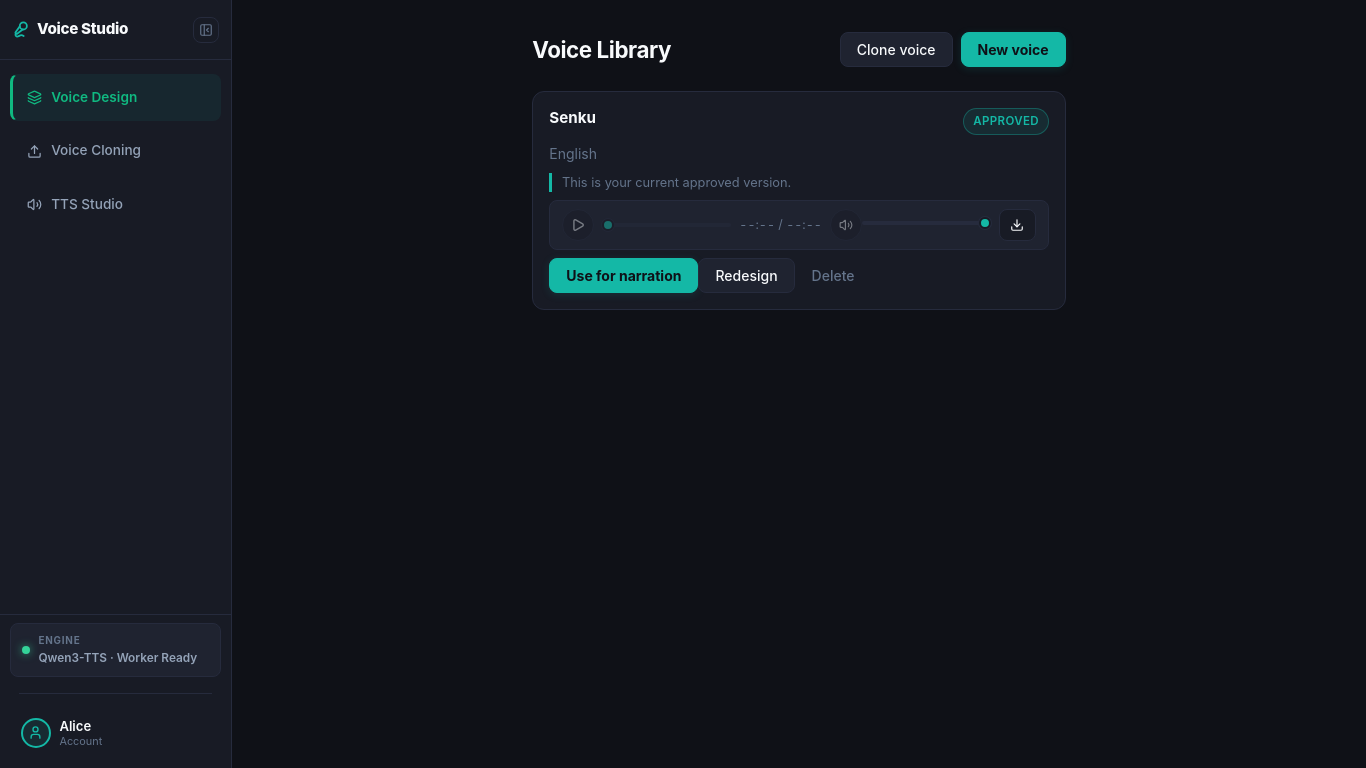
Test case: App — workspace navigation shell (Phase 8a) › collapses the sidebar to icon-only mode and persists the preference
The width and height of the screenshot is (1366, 768).
Expected: the link "Voice Design" is shown, [10, 74, 221, 121]
Expected: the text "Voice Design" is shown, [51, 87, 137, 108]
Click the button named "Collapse sidebar": (206, 30) [193, 16, 219, 42]
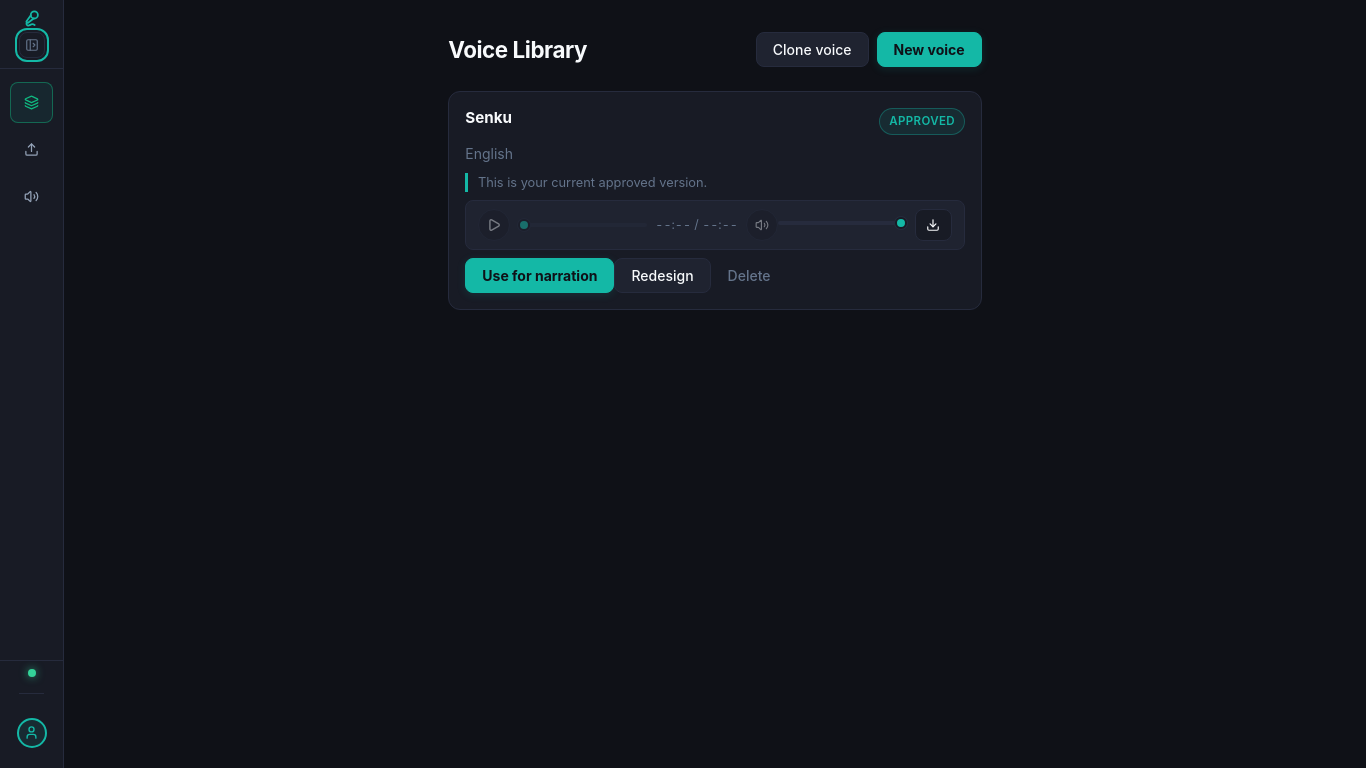
Expected: the text "Voice Design" is gone
Click the button named "Expand sidebar": (32, 45) [18, 32, 44, 58]
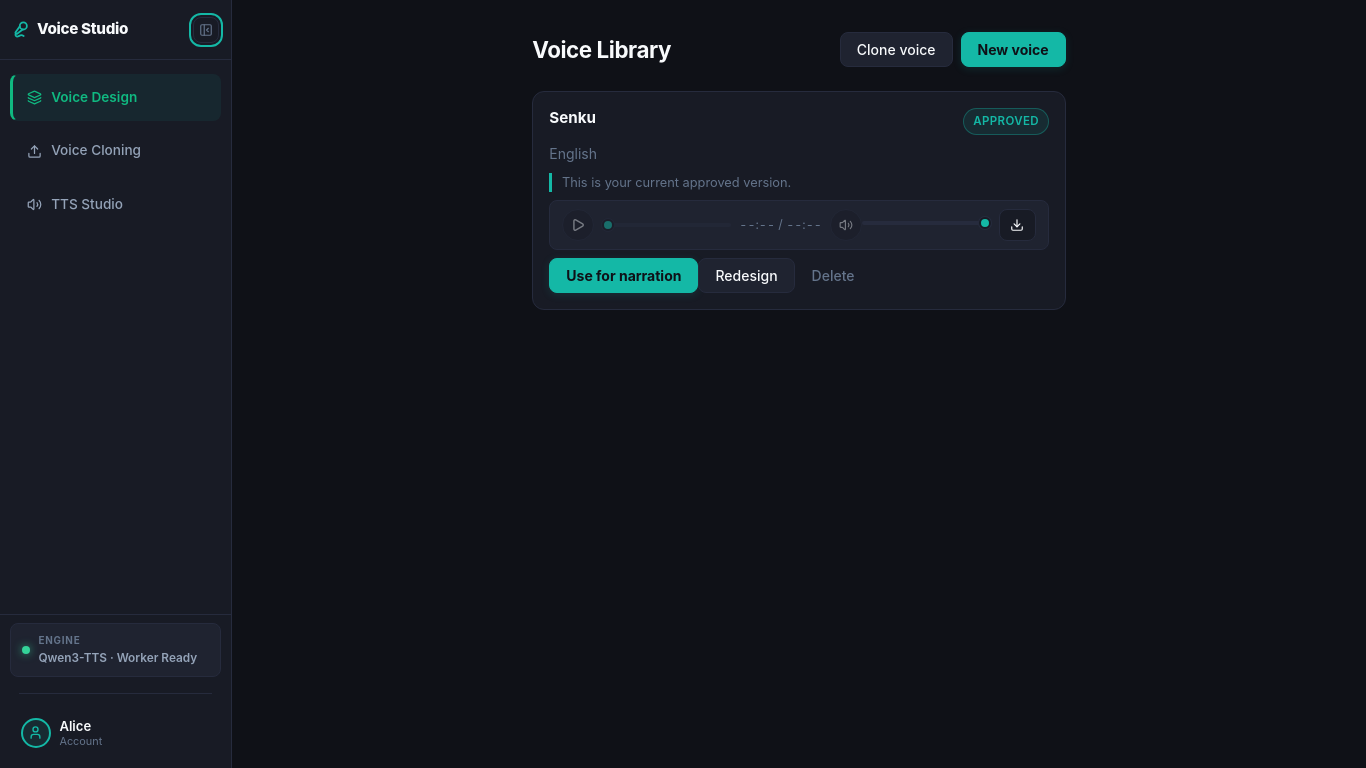
Expected: the text "Voice Design" is shown, [51, 87, 137, 108]
